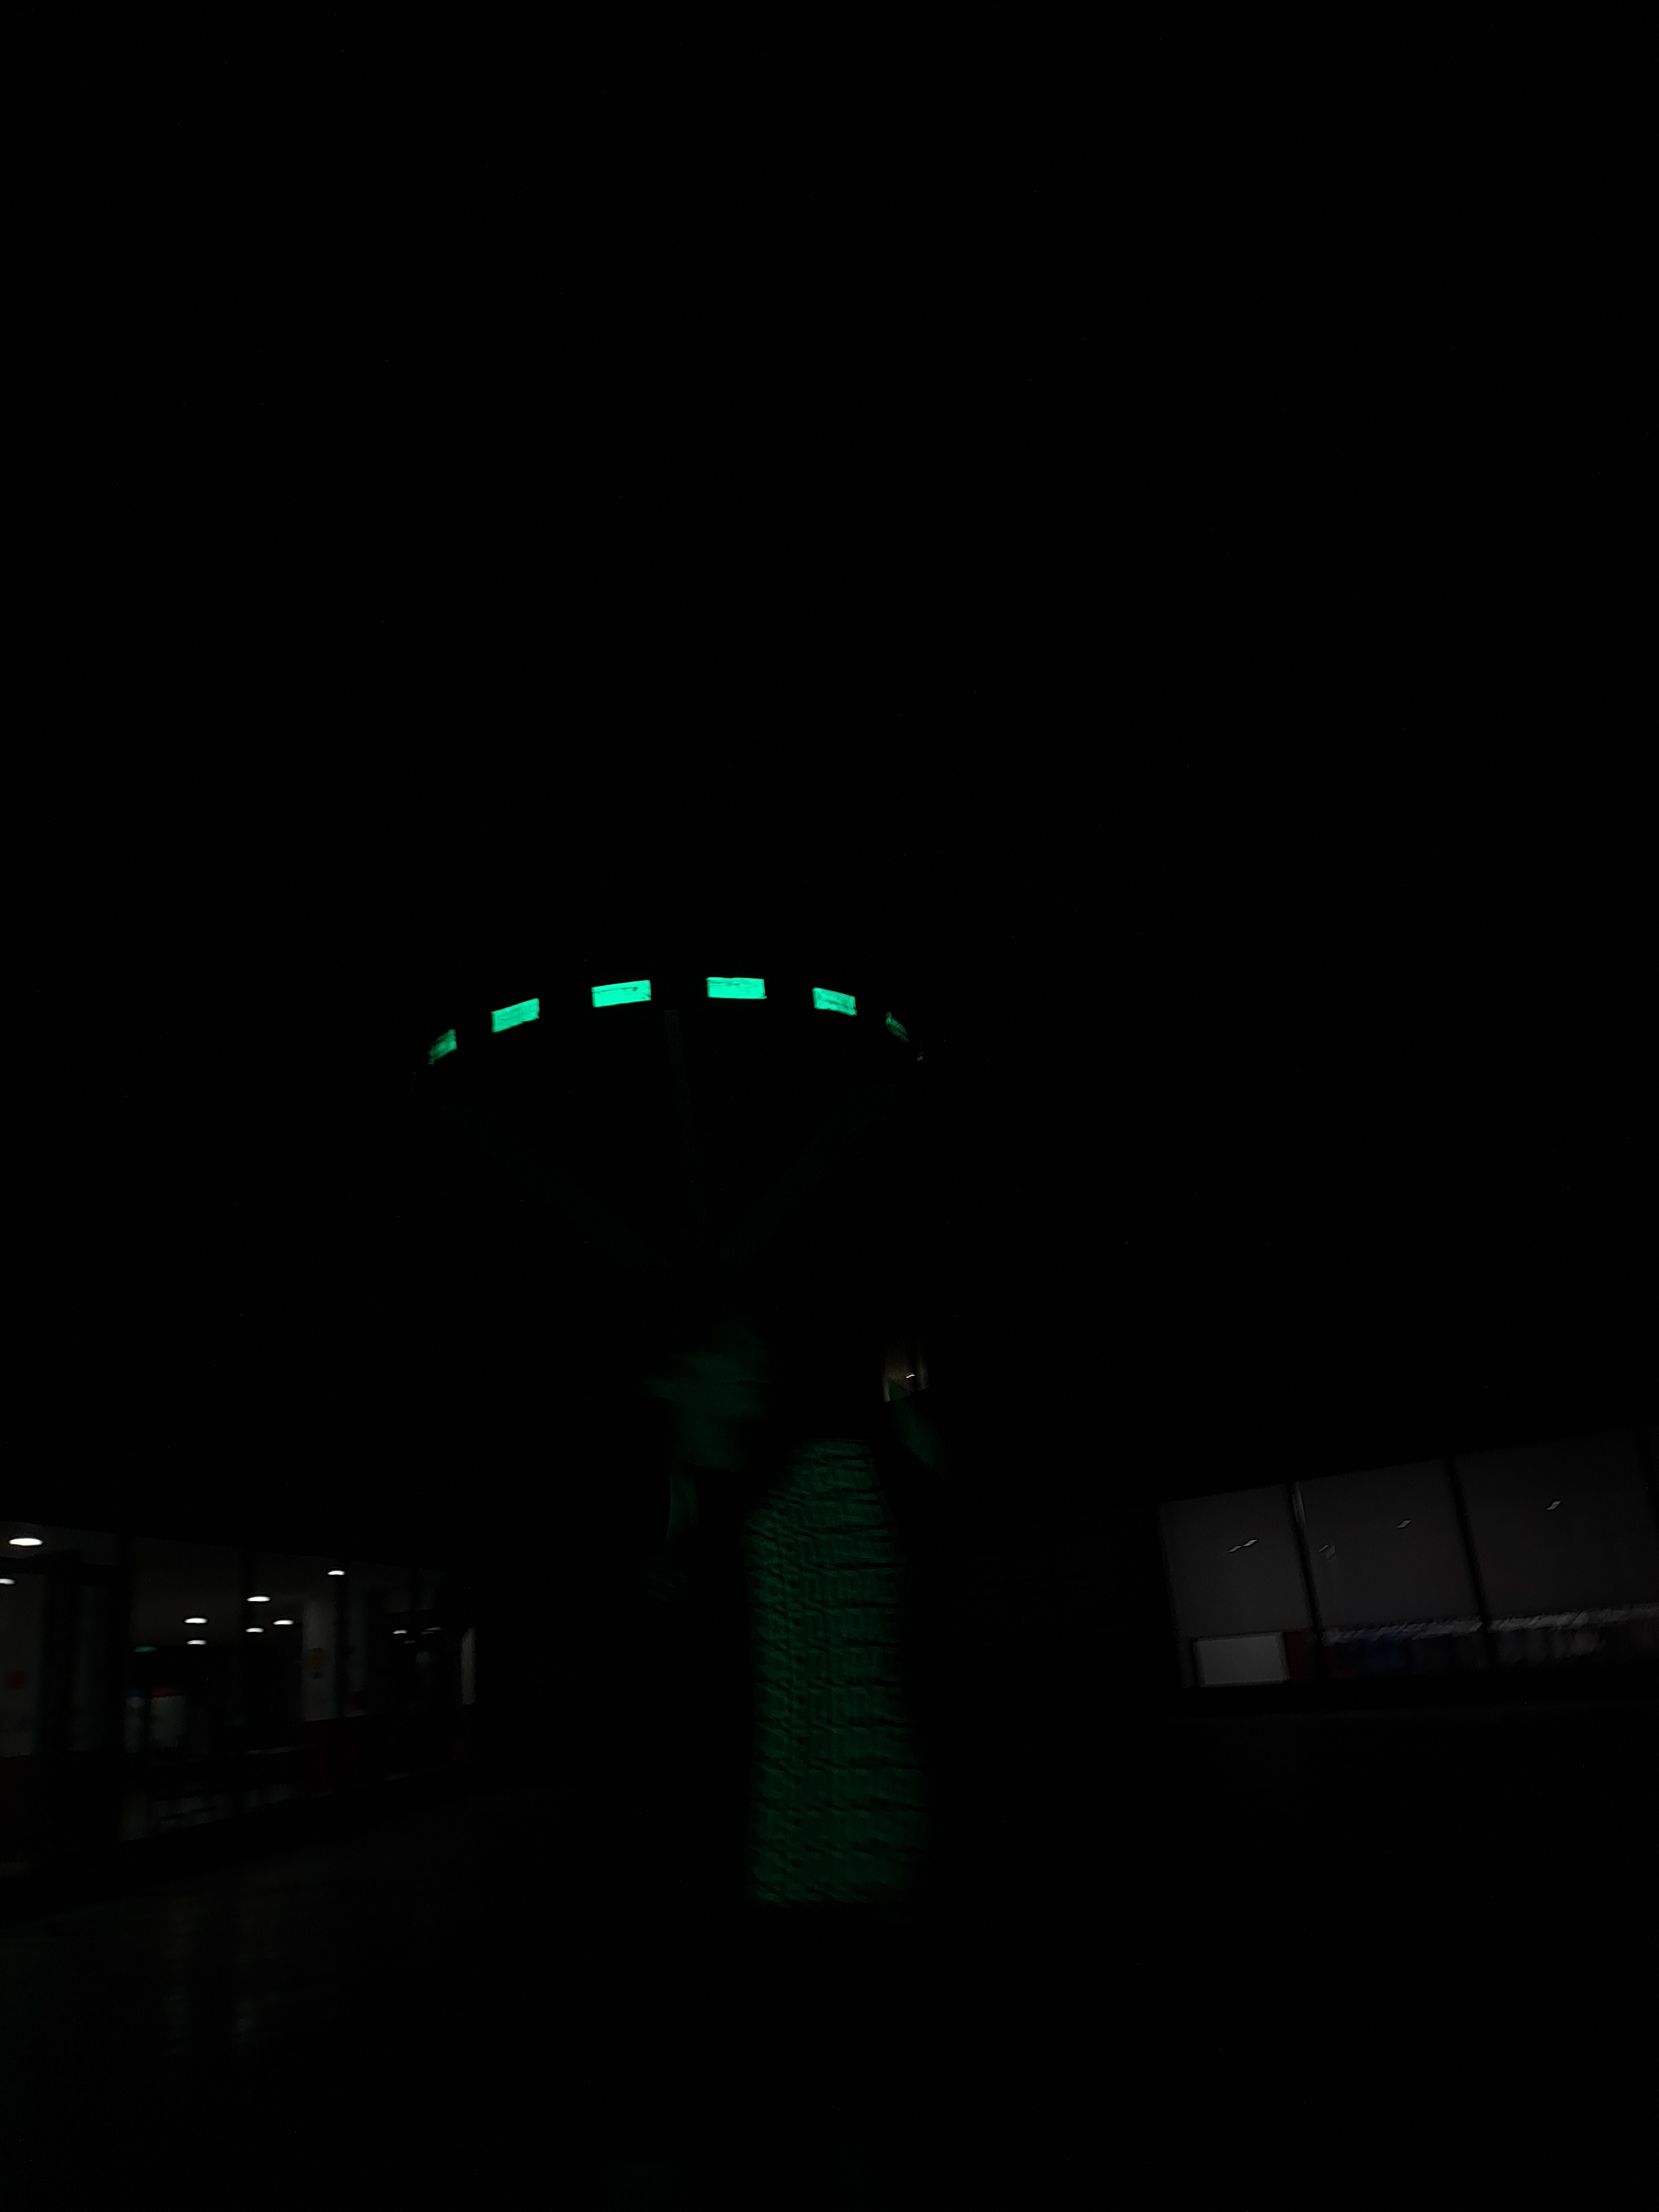hoop: (406, 974, 866, 1075)
